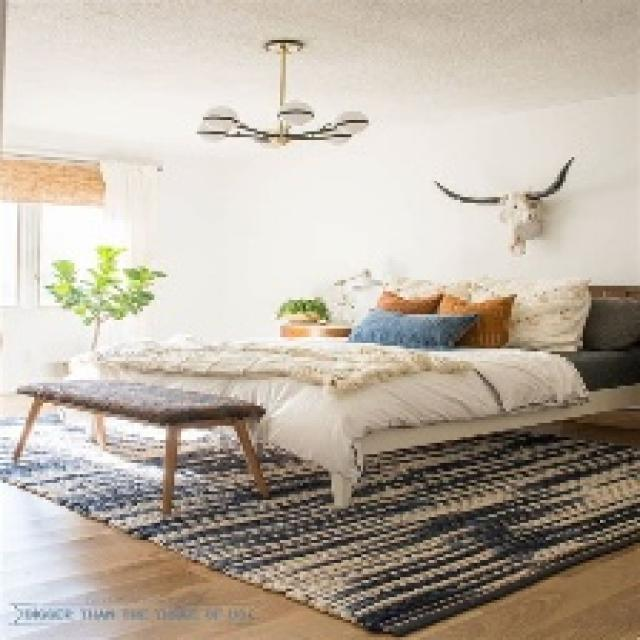Bed: (66, 277, 637, 509)
